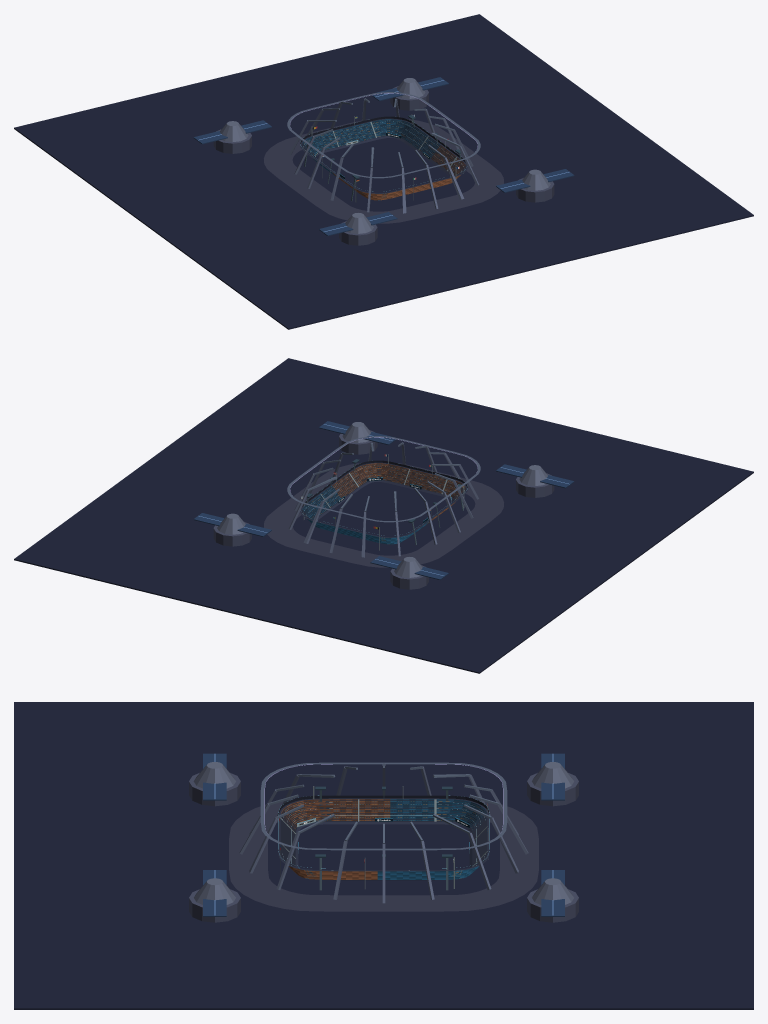
The model's file is orbital-v2.glb.
The picture shows the model from 3 angles, top to bottom: view 1: azimuth 30°, elevation 25°; view 2: azimuth 150°, elevation 25°; view 3: azimuth 270°, elevation 25°; orthographic projection. The views are drawn at different scales.
Parts seen in each view (by area): view 1: Arena architecture / orbital; view 2: Arena architecture / orbital; view 3: Arena architecture / orbital, Arena lettering and light ribbons / orbital.
Boxes of the visible parts, x1,y1,x2,y2 form: Arena architecture / orbital: (14,14,753,329); Arena architecture / orbital: (14,358,753,673); Arena architecture / orbital: (14,702,753,1009); Arena lettering and light ribbons / orbital: (214,754,553,915).
Size of the model in its own units: 61300 by 5791 by 62600.
Materials: 4 (2 with a texture image).
